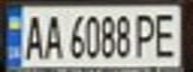0: (81, 11, 100, 60)
6: (63, 11, 84, 60)
8: (100, 11, 118, 60), (115, 11, 133, 60)
A: (21, 10, 48, 61), (39, 11, 66, 61)
E: (151, 9, 181, 60)
P: (133, 10, 160, 58)
